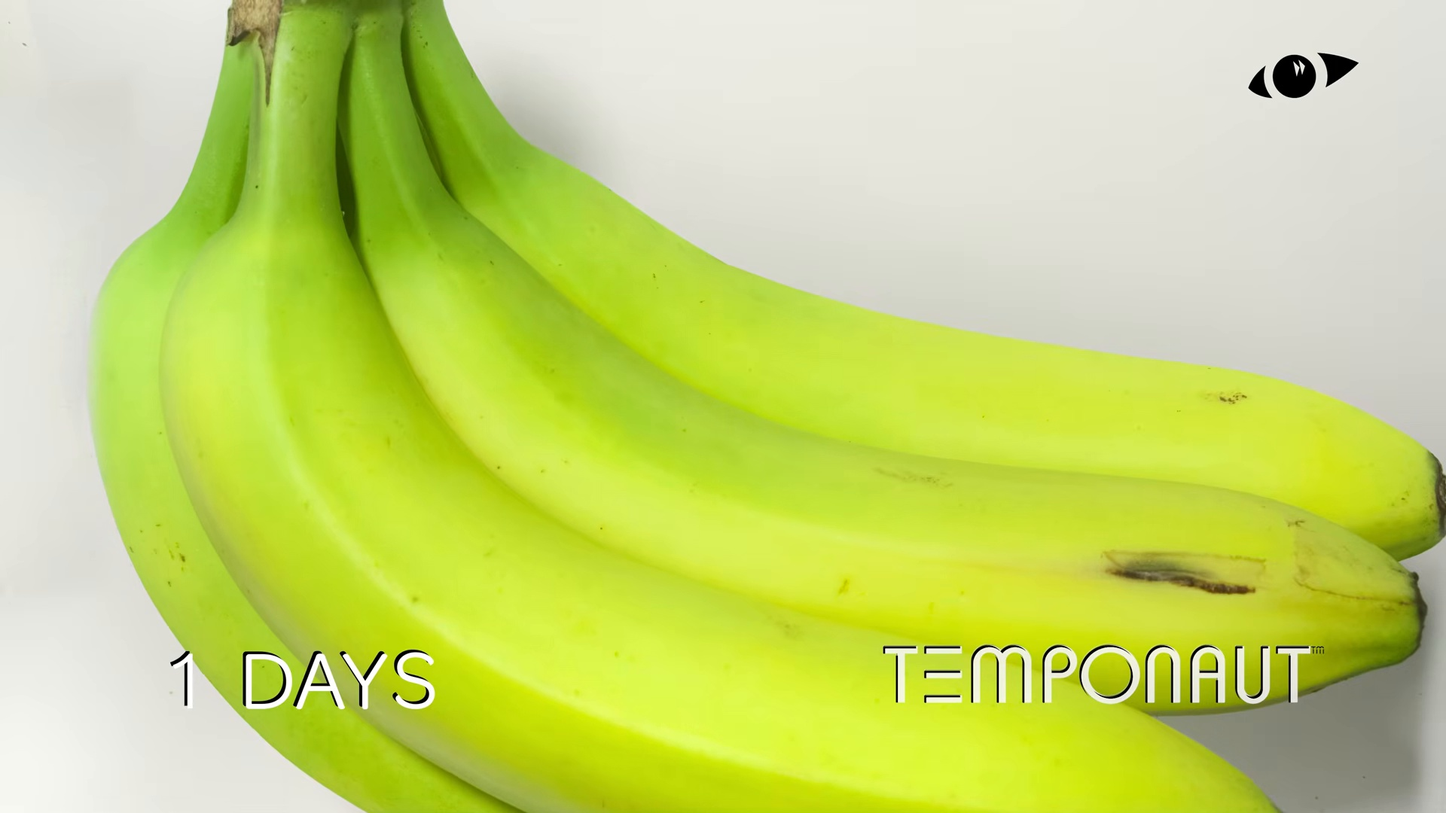banana_fresh: (86, 1, 1439, 800)
